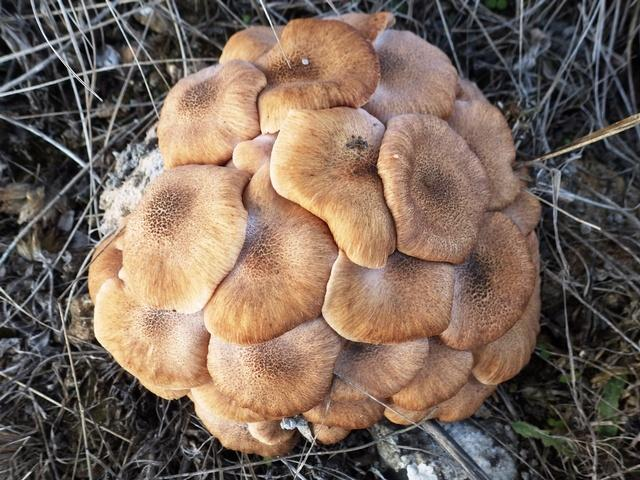Edible Mushroom: (86, 10, 544, 458)
